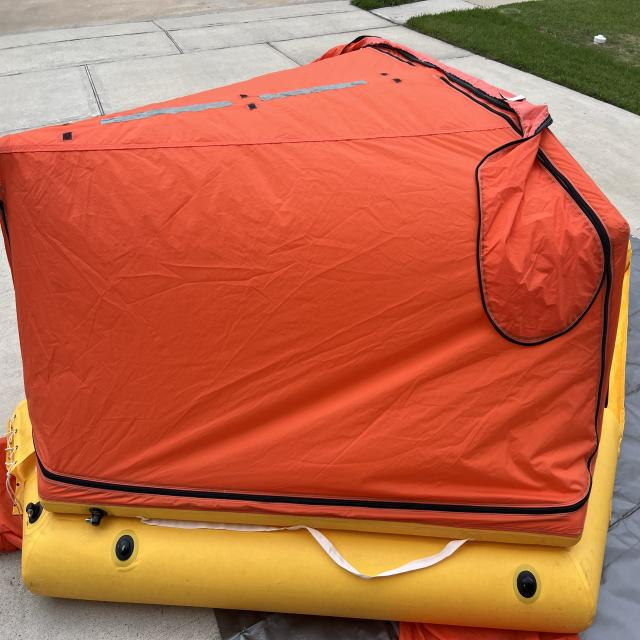Multi-person_life_raft: (0, 34, 630, 639)
